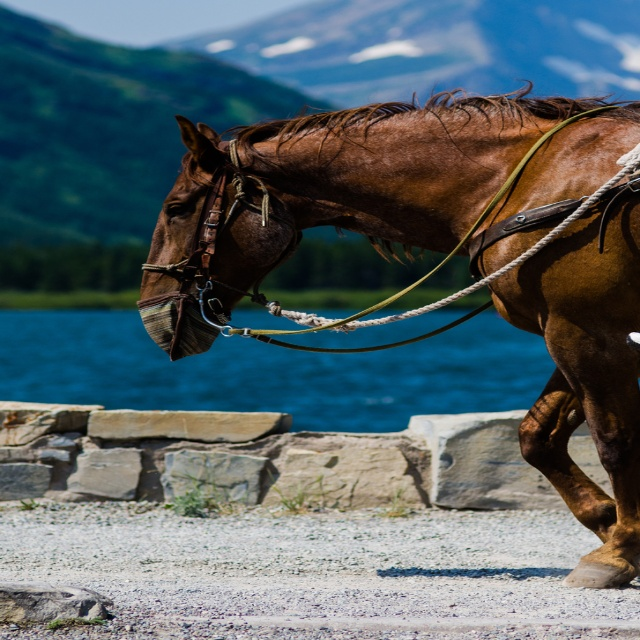Horse: (137, 80, 639, 588)
